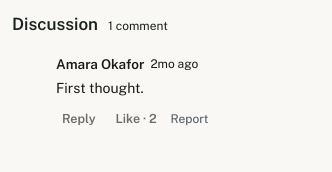
Test: CommentThread › upvotes optimistically and adopts the server's count
Click the button with aria-label "Like this comment" at coordinates (136, 119), box [110,103,163,135]
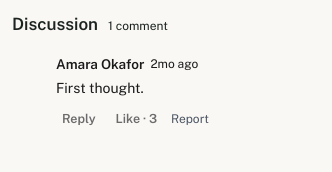
Check: the button with aria-label "Unlike this comment" shows "3", box [110,103,163,135]
